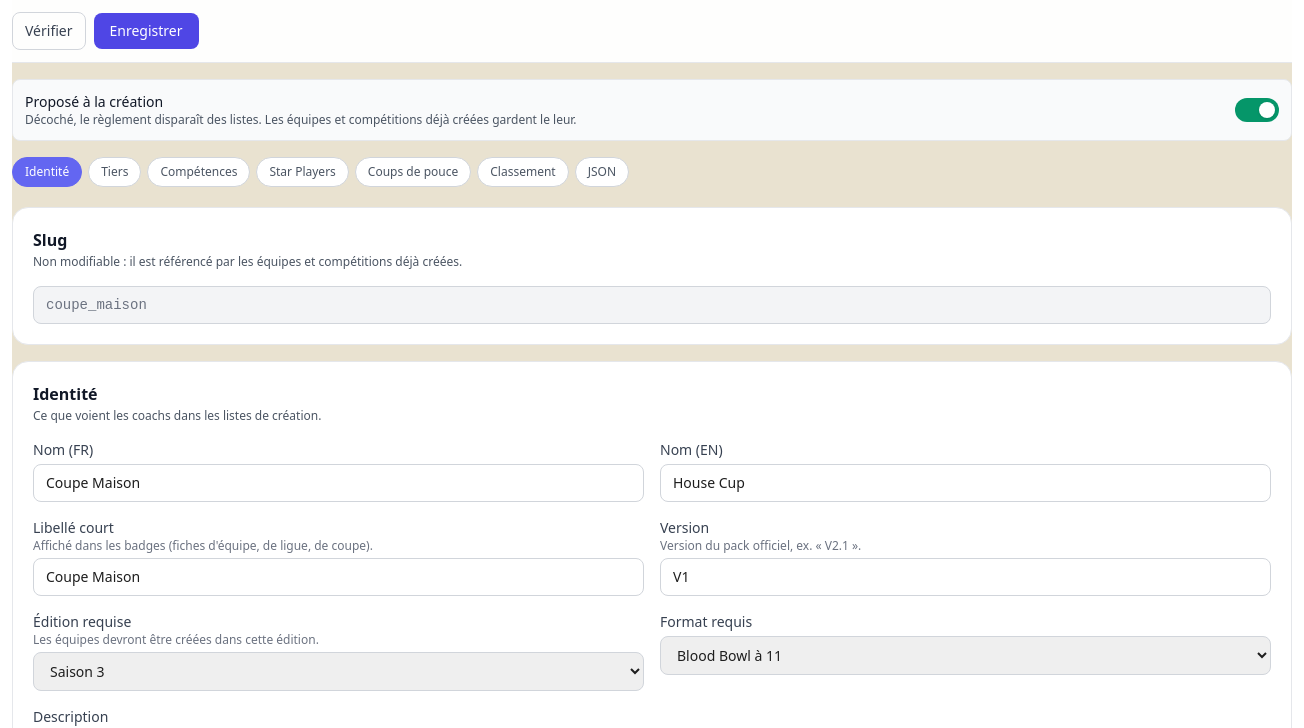
Test: validation servie par le serveur › place le message au pied du champ fautif
Step 1. Click the button with test id "ruleset-check" → (49, 31), box [12, 12, 86, 50]
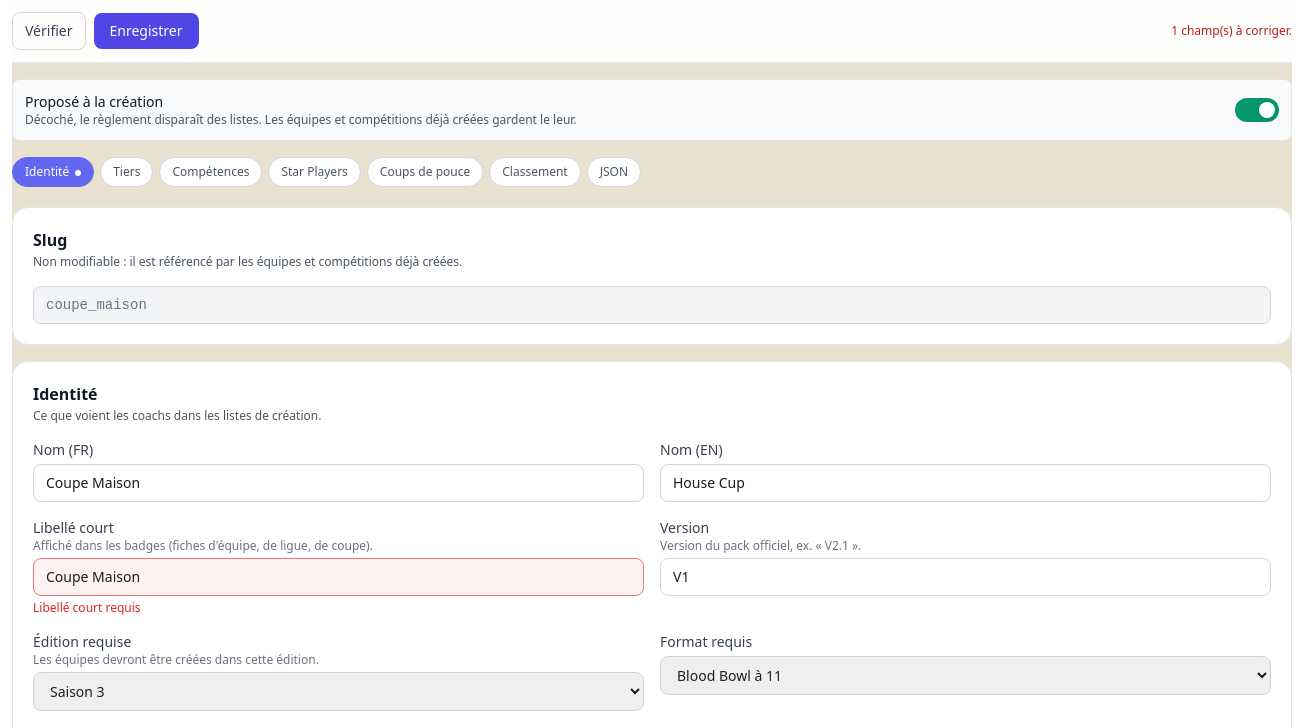
Now the message with test id "error-shortLabel" reads "Libellé court requis", box [33, 599, 141, 616]
